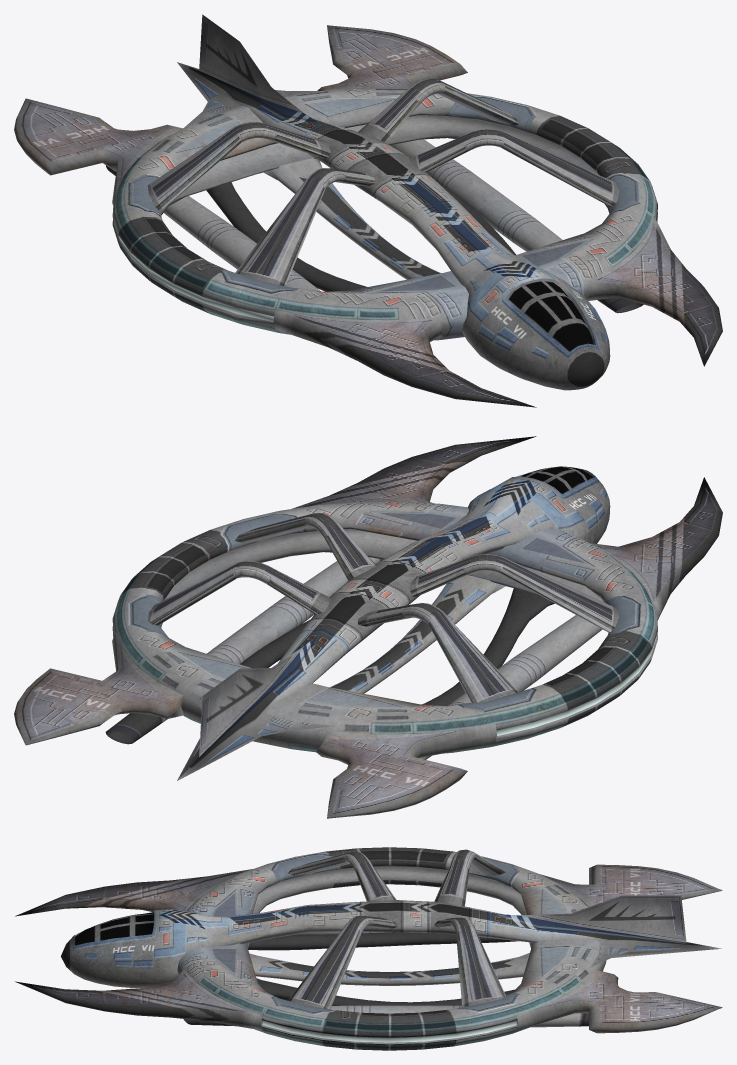
Rendered from Hover02_Body.obj.
3 renders of one model, top to bottom at view 1: azimuth 30°, elevation 25°; view 2: azimuth 150°, elevation 25°; view 3: azimuth 270°, elevation 25°, orthographic. The views are drawn at different scales.
Parts seen in each view (by area): view 1: h02_body hover02; view 2: h02_body hover02; view 3: h02_body hover02.
Boxes of the visible parts, x1,y1,x2,y2 form: h02_body hover02: (14,14,722,407); h02_body hover02: (14,436,722,818); h02_body hover02: (15,847,722,1050).
Size of the model in its own units: 99.18 by 24.59 by 161.
